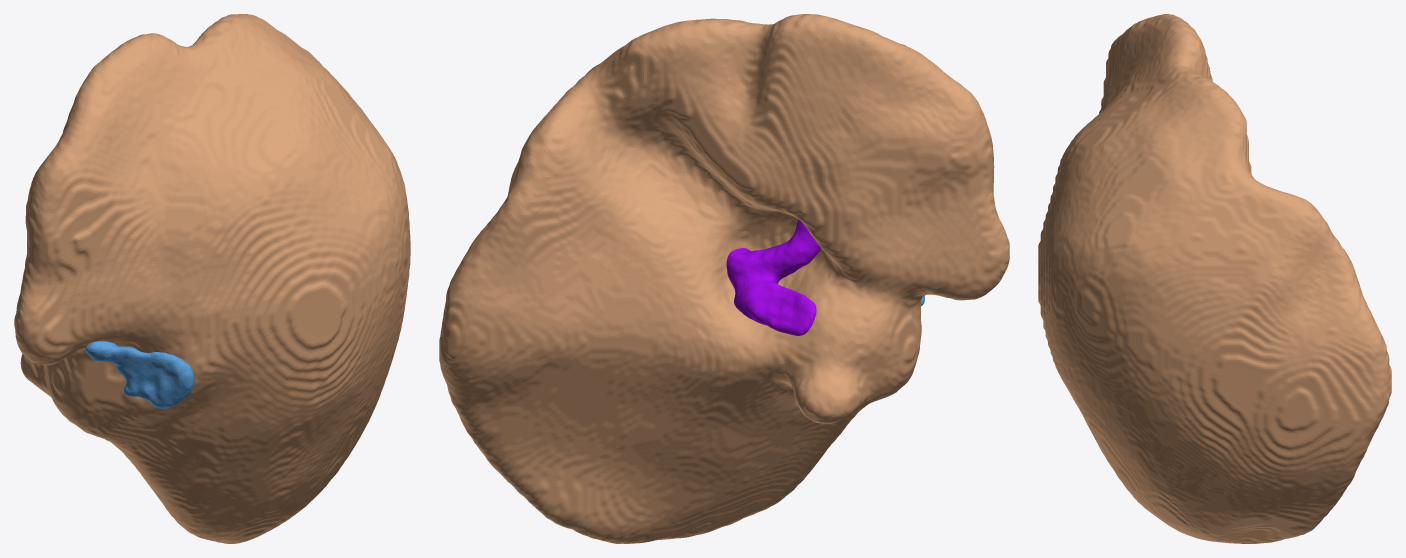
3 views of the same model, side by side, from view 1: azimuth 30°, elevation 25°; view 2: azimuth 150°, elevation 25°; view 3: azimuth 270°, elevation 25° (orthographic). The views are drawn at different scales.
Visible parts, largest first — view 1: Hígado, Venas Suprahepáticas; view 2: Hígado, Vasos Portales; view 3: Hígado.
Boxes of the visible parts, bbox=[...] form: Hígado: bbox=[14, 14, 410, 543]; Venas Suprahepáticas: bbox=[85, 341, 194, 408]; Hígado: bbox=[439, 14, 1009, 543]; Vasos Portales: bbox=[726, 219, 820, 335]; Hígado: bbox=[1038, 14, 1391, 543].
Size of the model in its own units: 0.1768 by 0.211 by 0.1461.
